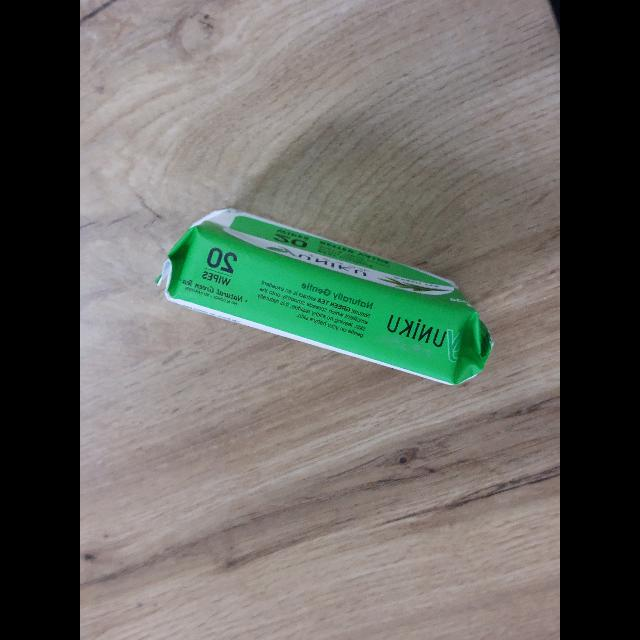khan_giay: (155, 205, 493, 385)
